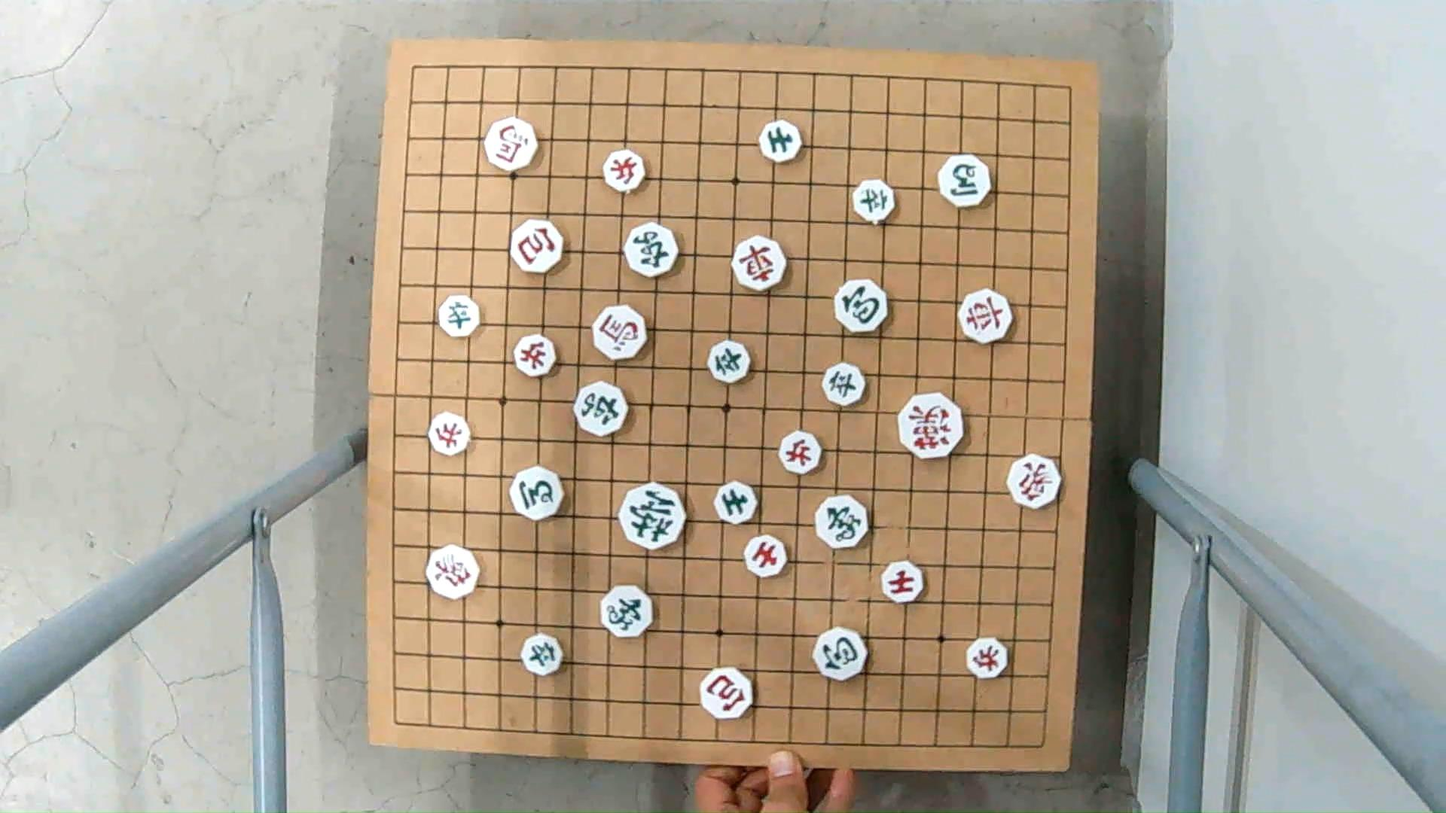cha_green: (623, 226, 681, 276), (575, 385, 631, 434)
cha_red: (956, 293, 1014, 343), (731, 241, 786, 285)
jol_green: (707, 338, 752, 383), (852, 178, 899, 220), (437, 297, 483, 338), (822, 364, 868, 404), (520, 636, 564, 675)
jol_red: (777, 429, 822, 473), (513, 333, 557, 378), (428, 413, 471, 457), (964, 639, 1011, 678), (603, 154, 646, 191)
ma_green: (508, 466, 566, 519), (935, 157, 993, 207)
ma_red: (591, 306, 650, 358), (484, 118, 541, 170)
po_green: (831, 279, 889, 329), (812, 630, 868, 680)
po_red: (508, 221, 566, 272), (697, 670, 754, 718)
sa_green: (712, 482, 761, 523), (758, 121, 803, 164)
sa_red: (879, 562, 924, 603), (746, 537, 787, 575)
sang_green: (813, 494, 869, 551), (598, 586, 655, 638)
sang_red: (1005, 457, 1062, 507), (425, 548, 479, 597)
wang_green: (619, 486, 686, 545)
wang_red: (896, 394, 966, 460)
